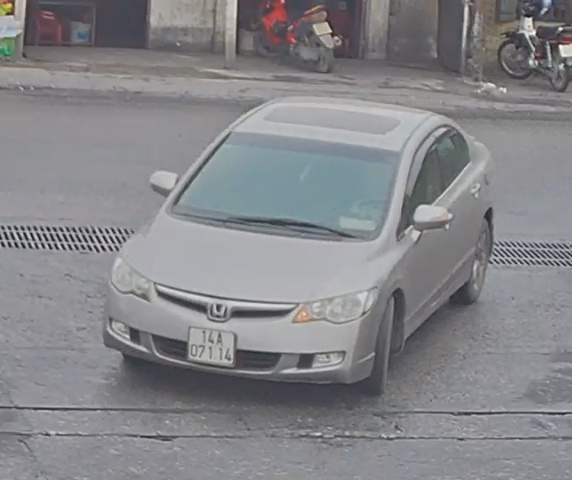vehicle plate: (183, 322, 240, 366)
